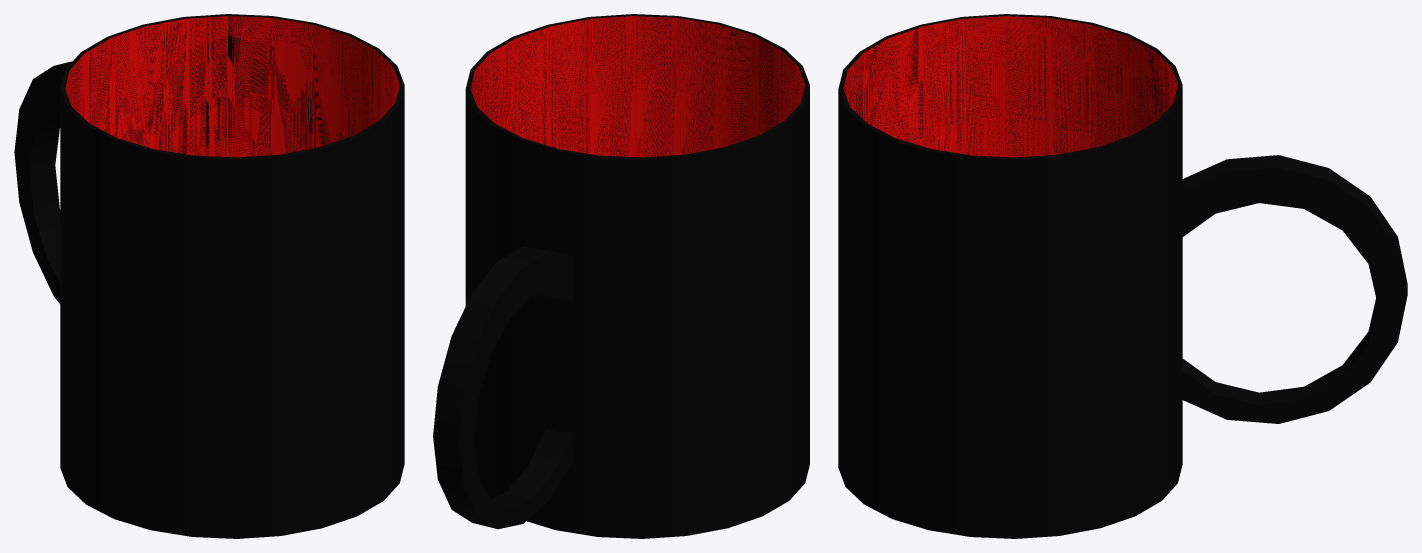
The model's file is mug_04_origin_gt_4.dae.
3 renders of one model, left to right at view 1: azimuth 30°, elevation 25°; view 2: azimuth 150°, elevation 25°; view 3: azimuth 270°, elevation 25°, orthographic.
Visible parts, largest first — view 1: Hollow_cylinder (×2), Mug_handle; view 2: Hollow_cylinder (×2), Mug_handle; view 3: Hollow_cylinder (×2), Mug_handle.
Part boxes in pixels (x1,y1,x2,y2): Hollow_cylinder (×2): (60, 14, 404, 538); Mug_handle: (14, 61, 72, 303); Hollow_cylinder (×2): (465, 14, 809, 538); Mug_handle: (433, 246, 572, 529); Hollow_cylinder (×2): (838, 14, 1182, 538); Mug_handle: (1181, 155, 1407, 423).
Bounding box in the file's own units: 3.6 × 5.94 × 4.38.
